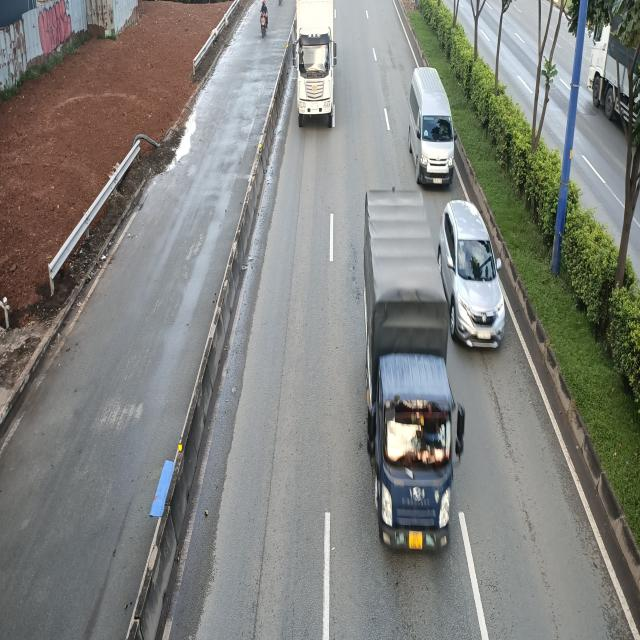car: (435, 199, 503, 353)
container: (291, 1, 336, 129)
truck: (367, 192, 468, 558)
van: (410, 65, 457, 188)
